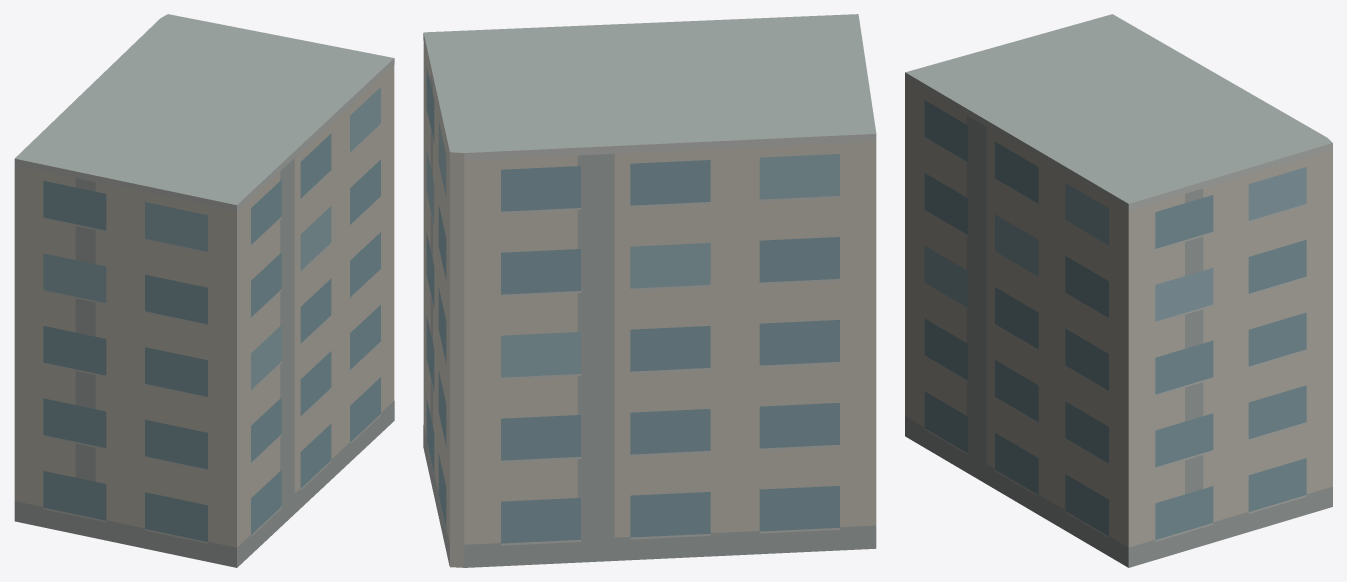
Rendered from survey-upis-32887472.glb.
3 renders of one model, left to right at view 1: azimuth 30°, elevation 25°; view 2: azimuth 150°, elevation 25°; view 3: azimuth 270°, elevation 25°, orthographic. The views are drawn at different scales.
Visible parts, largest first — view 1: survey-upis-32887472.tmp; view 2: survey-upis-32887472.tmp; view 3: survey-upis-32887472.tmp.
Part boxes in pixels (box(x1,y1,x2,y2)): survey-upis-32887472.tmp: box(14, 14, 394, 567); survey-upis-32887472.tmp: box(423, 14, 876, 567); survey-upis-32887472.tmp: box(905, 14, 1332, 567).
Bounding box in the file's own units: 14.78 × 13.2 × 14.07.
